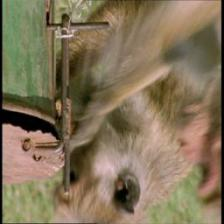monkey: (51, 107, 135, 223), (168, 97, 223, 223)
